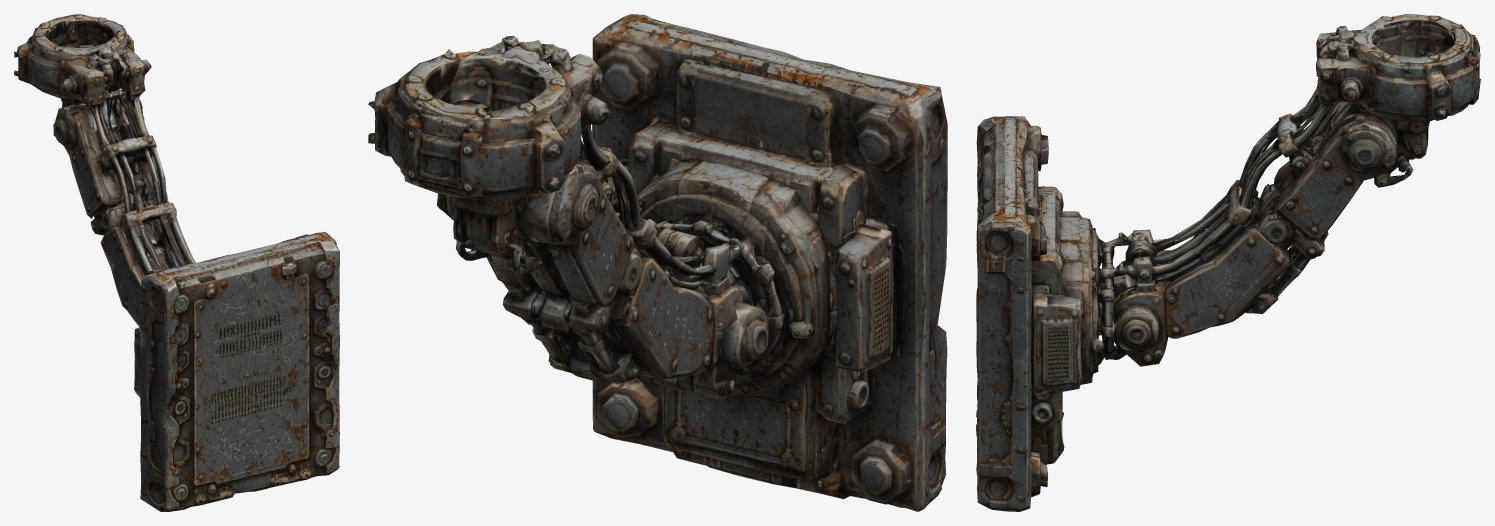
Rendered from BK_CamArm.fbx.
The picture shows the model from 3 angles, left to right: view 1: azimuth 30°, elevation 25°; view 2: azimuth 150°, elevation 25°; view 3: azimuth 270°, elevation 25°; orthographic projection. The views are drawn at different scales.
Parts seen in each view (by area): view 1: texture_mapping; view 2: texture_mapping; view 3: texture_mapping.
Part boxes in pixels (left/top/right/bottom): texture_mapping: left=14, top=14, right=339, bottom=511; texture_mapping: left=368, top=14, right=947, bottom=511; texture_mapping: left=976, top=14, right=1480, bottom=511.
Bounding box in the file's own units: 0.5437 × 1 × 0.9435.
Materials: 1 (1 with a texture image).
